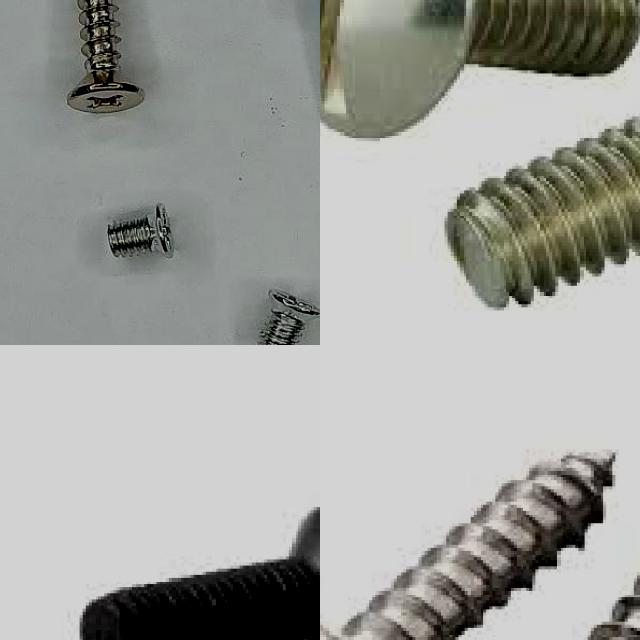Screw: (320, 452, 618, 640), (320, 0, 640, 138), (445, 117, 640, 310), (81, 507, 320, 640), (67, 0, 145, 113), (108, 204, 174, 258), (258, 290, 320, 345)
